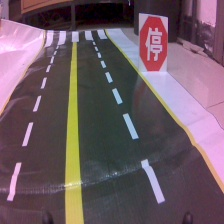stop: (137, 12, 168, 73)
